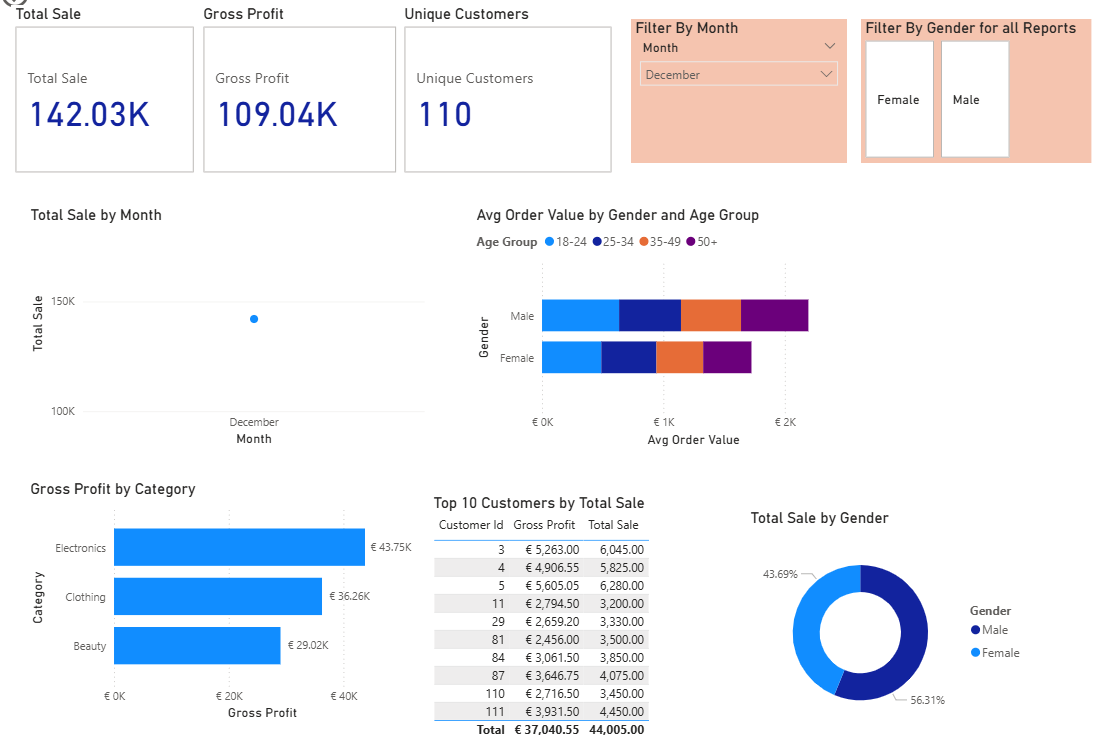

The page's visual inventory and layout, read from the dashboard file:
{"tool":"powerbi","page":{"name":"Page 1","canvas":[1600,900],"ordinal":0},"visuals":[{"type":"lineChart","fields":{"Y":["Catergory.Total Sale"],"Category":["Date.Month"]},"box":[32,256,448,272],"z":0},{"type":"actionButton","box":[0,0,100,40],"z":1000},{"type":"barChart","fields":{"Category":["Catergory.Category"],"Y":["Catergory.Gross Profit"]},"box":[48,560,432,272],"z":2000},{"type":"tableEx","fields":{"Values":["Customers.Customer Id","Catergory.Gross Profit","Catergory.Total Sale"]},"box":[480,576,432,288],"z":3000},{"type":"donutChart","fields":{"Category":["Customers.Gender"],"Y":["Catergory.Total Sale"]},"box":[896,592,336,288],"z":4000},{"type":"barChart","fields":{"Category":["Customers.Gender"],"Y":["Catergory.Avg Order Value"],"Series":["Retail Sales Data.Age Group"]},"box":[528,256,432,272],"z":5000},{"type":"cardVisual","title":"Total Revenue","fields":{"Data":["Catergory.Total Sale"]},"box":[16,32,272,192],"z":6000},{"type":"cardVisual","title":"Gross Profit","fields":{"Data":["Catergory.Gross Profit"]},"box":[304,32,272,192],"z":7000},{"type":"cardVisual","title":"Unique Customers","fields":{"Data":["Catergory.Unique Customer"]},"box":[592,32,272,192],"z":8000},{"type":"advancedSlicerVisual","title":"Filter By Gender for all Reports","fields":{"Values":["Customers.Gender"]},"box":[1247.8,64.4,352,160],"z":9000},{"type":"slicer","title":"Filter By Month","fields":{"Values":["Date.Month"]},"box":[879.8,64.4,336,160],"z":10000}]}

Visuals, with their boxes on the page's 1600x900 design canvas (x1, y1, x2, y2). These are canvas units, not pixel positions in the 1094x742 screenshot, which may show the page scaled, cropped or inside an application window:
lineChart - Catergory.Total Sale x Date.Month: rect(32, 256, 480, 528)
actionButton: rect(0, 0, 100, 40)
barChart - Catergory.Category x Catergory.Gross Profit: rect(48, 560, 480, 832)
tableEx - Customers.Customer Id x Catergory.Gross Profit: rect(480, 576, 912, 864)
donutChart - Customers.Gender x Catergory.Total Sale: rect(896, 592, 1232, 880)
barChart - Customers.Gender x Catergory.Avg Order Value: rect(528, 256, 960, 528)
"Total Revenue" cardVisual: rect(16, 32, 288, 224)
"Gross Profit" cardVisual: rect(304, 32, 576, 224)
"Unique Customers" cardVisual: rect(592, 32, 864, 224)
"Filter By Gender for all Reports" advancedSlicerVisual: rect(1248, 64, 1600, 224)
"Filter By Month" slicer: rect(880, 64, 1216, 224)
